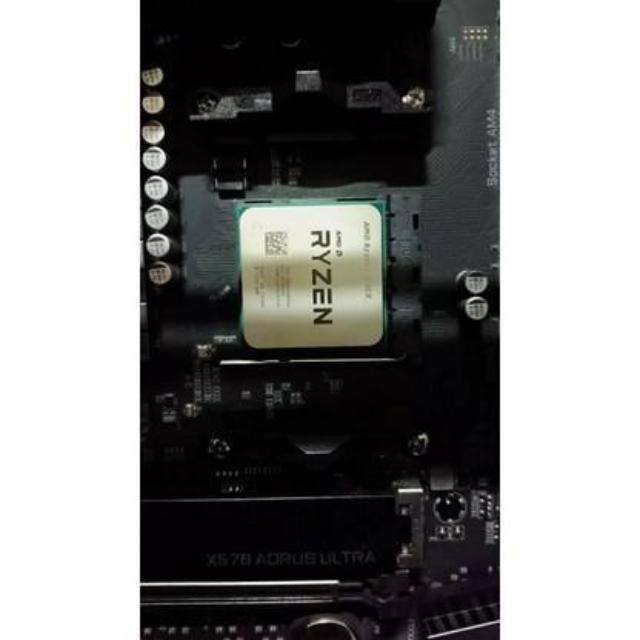CPU: (236, 202, 384, 346)
